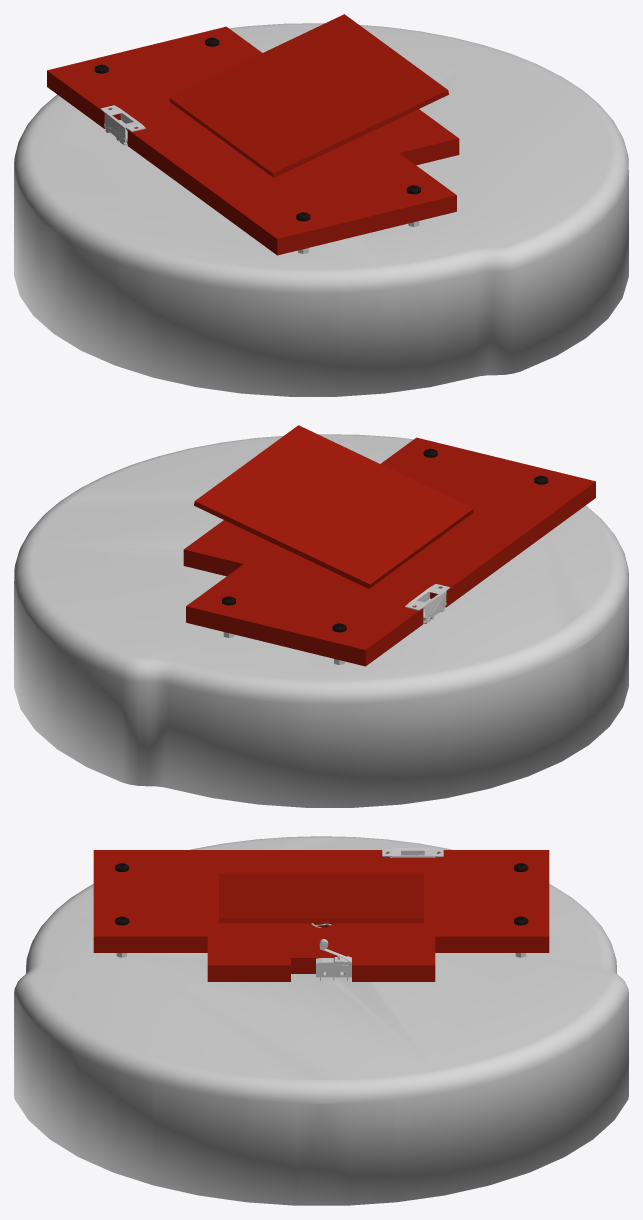
File: robot_red.dae
The picture shows the model from 3 angles, top to bottom: view 1: azimuth 30°, elevation 25°; view 2: azimuth 150°, elevation 25°; view 3: azimuth 270°, elevation 25°; orthographic projection.
Visible parts, largest first — view 1: Ground_robot_green_base, Ground_robot_green_plaque, Ground_robot_green_clap, Ground_robot_green_0012; view 2: Ground_robot_green_base, Ground_robot_green_plaque, Ground_robot_green_clap, Ground_robot_green_0012; view 3: Ground_robot_green_base, Ground_robot_green_plaque, Ground_robot_green_clap, Ground_robot_green_0132, Ground_robot_green_0012.
Part boxes in pixels (left/top/right/bottom): Ground_robot_green_base: left=14, top=23, right=628, bottom=396; Ground_robot_green_plaque: left=47, top=26, right=459, bottom=255; Ground_robot_green_clap: left=169, top=14, right=448, bottom=177; Ground_robot_green_0012: left=100, top=105, right=145, bottom=144; Ground_robot_green_base: left=14, top=434, right=628, bottom=807; Ground_robot_green_plaque: left=183, top=437, right=595, bottom=666; Ground_robot_green_clap: left=194, top=425, right=473, bottom=588; Ground_robot_green_0012: left=405, top=584, right=449, bottom=623; Ground_robot_green_base: left=14, top=836, right=628, bottom=1205; Ground_robot_green_plaque: left=93, top=850, right=549, bottom=981; Ground_robot_green_clap: left=219, top=873, right=423, bottom=923; Ground_robot_green_0132: left=316, top=957, right=351, bottom=980; Ground_robot_green_0012: left=382, top=848, right=443, bottom=857.
Bounding box in the file's own units: 0.3392 × 0.3427 × 0.1306.
